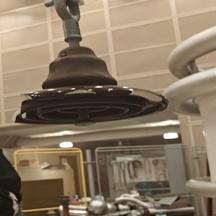insulator: (9, 44, 190, 130)
